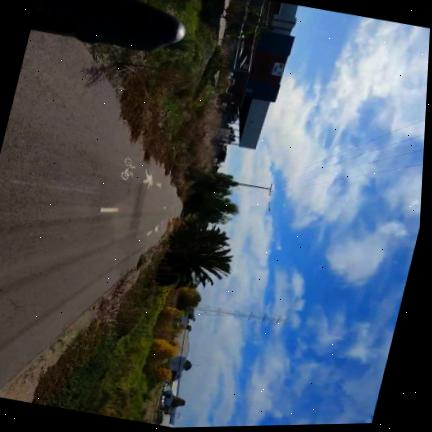Bike_Lane: (0, 31, 182, 390)
